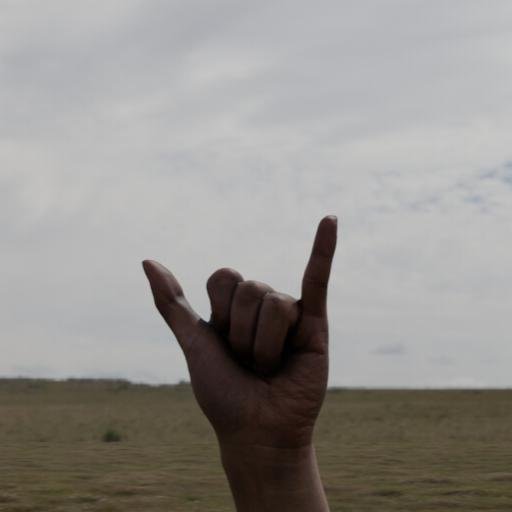Y: (129, 203, 371, 512)
